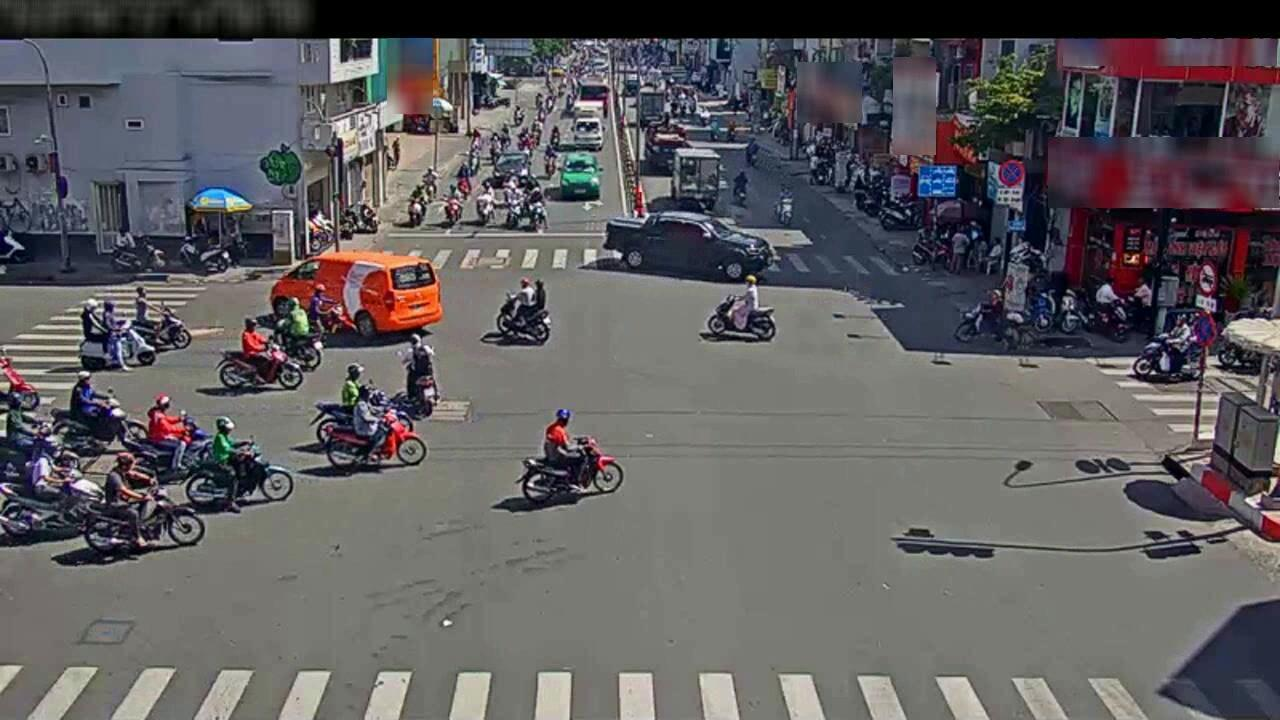8: (675, 147, 717, 200)
container: (267, 250, 443, 332), (598, 208, 773, 272), (557, 156, 598, 199)
motorbike: (84, 453, 203, 556), (189, 418, 296, 510), (521, 408, 622, 502), (314, 360, 419, 442), (0, 455, 90, 544), (326, 392, 427, 471), (215, 315, 313, 395), (126, 399, 203, 486), (57, 370, 129, 454), (1120, 321, 1211, 387), (115, 290, 195, 359), (259, 295, 326, 376), (0, 401, 79, 469), (956, 281, 1030, 352), (699, 281, 777, 345), (75, 303, 151, 366), (490, 279, 554, 347), (396, 342, 445, 425), (0, 344, 38, 408), (439, 180, 466, 233), (403, 178, 429, 233), (523, 186, 550, 237), (471, 181, 498, 231), (772, 183, 797, 230), (728, 169, 753, 204), (504, 181, 520, 226)
